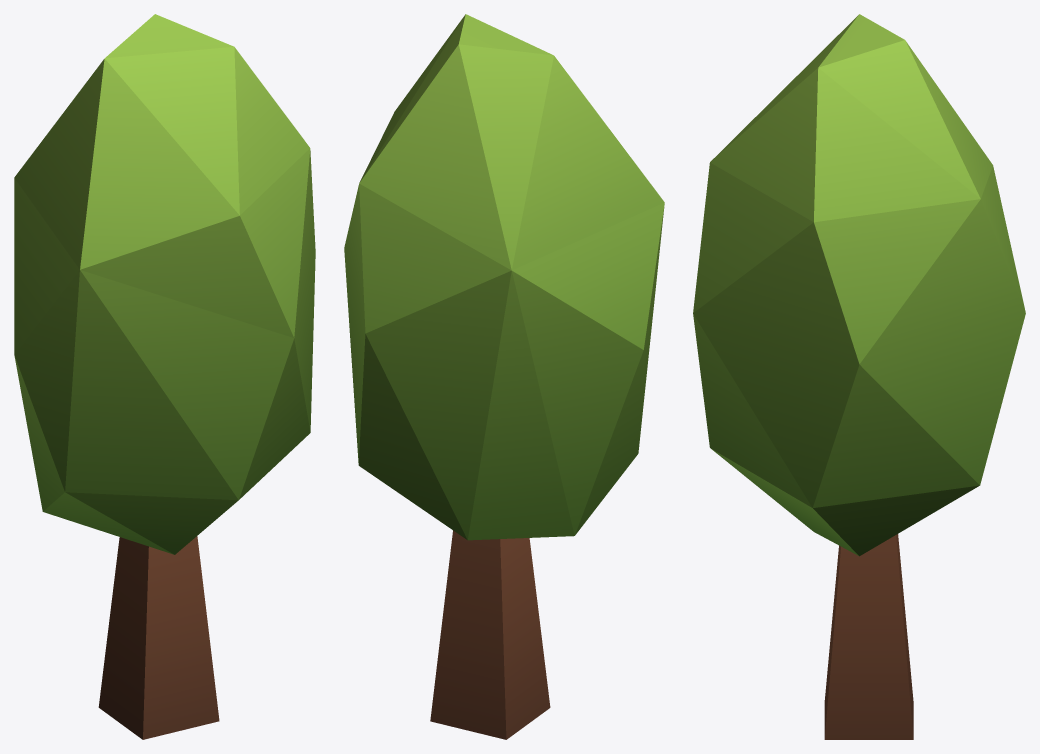
Rendered from tree 4.fbx.
The picture shows the model from 3 angles, left to right: view 1: azimuth 30°, elevation 25°; view 2: azimuth 150°, elevation 25°; view 3: azimuth 270°, elevation 25°; orthographic projection.
Parts seen in each view (by area): view 1: tree_4; view 2: tree_4; view 3: tree_4.
Boxes of the visible parts, x1,y1,x2,y2 form: tree_4: [14, 14, 315, 739]; tree_4: [344, 14, 664, 739]; tree_4: [693, 14, 1025, 739].
Bounding box in the file's own units: 224 × 487 × 213.
Materials: 1 (1 with a texture image).
